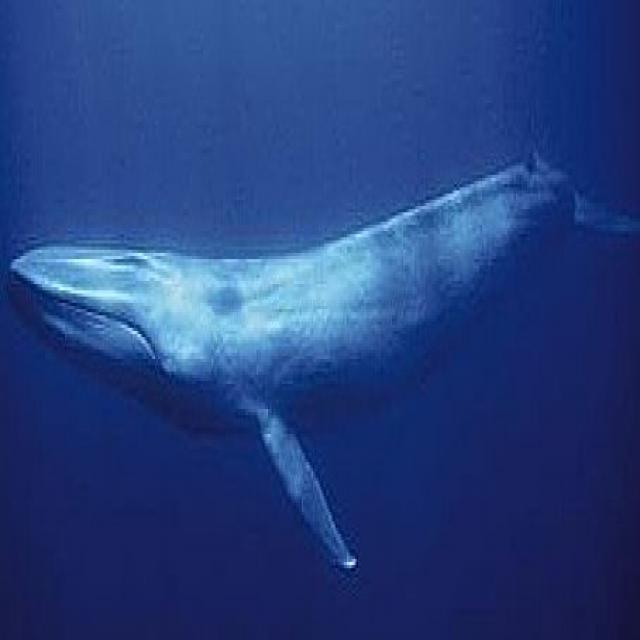blue_whale: (12, 131, 640, 583)
